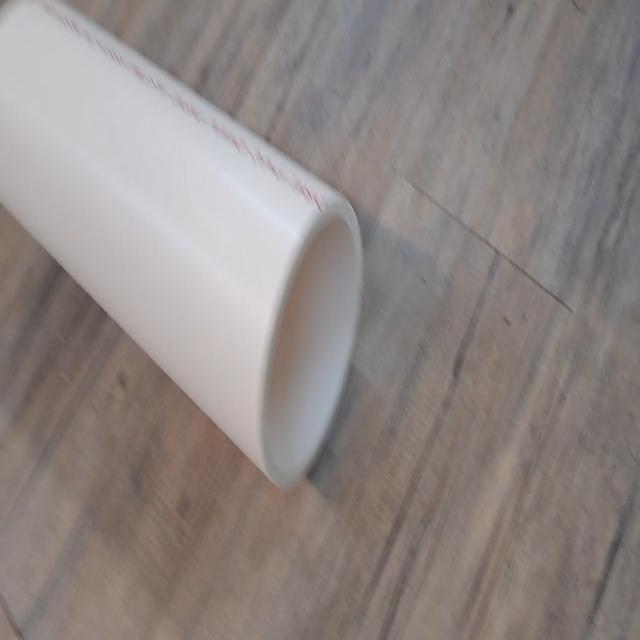CORAL: (0, 0, 376, 508)
